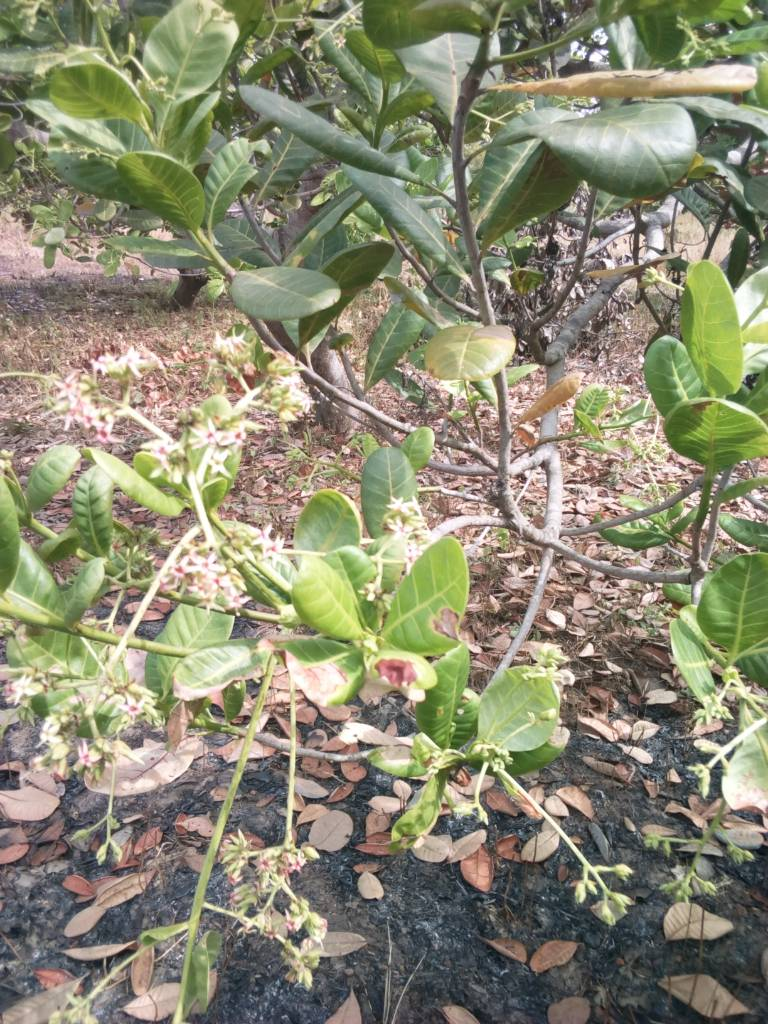Dysdercus wolkerii: (370, 521, 474, 663), (351, 642, 437, 702)
